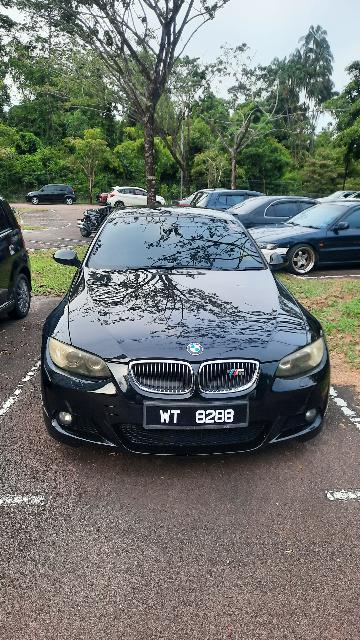License_Plate: (139, 399, 252, 434)
car: (47, 196, 332, 466)
